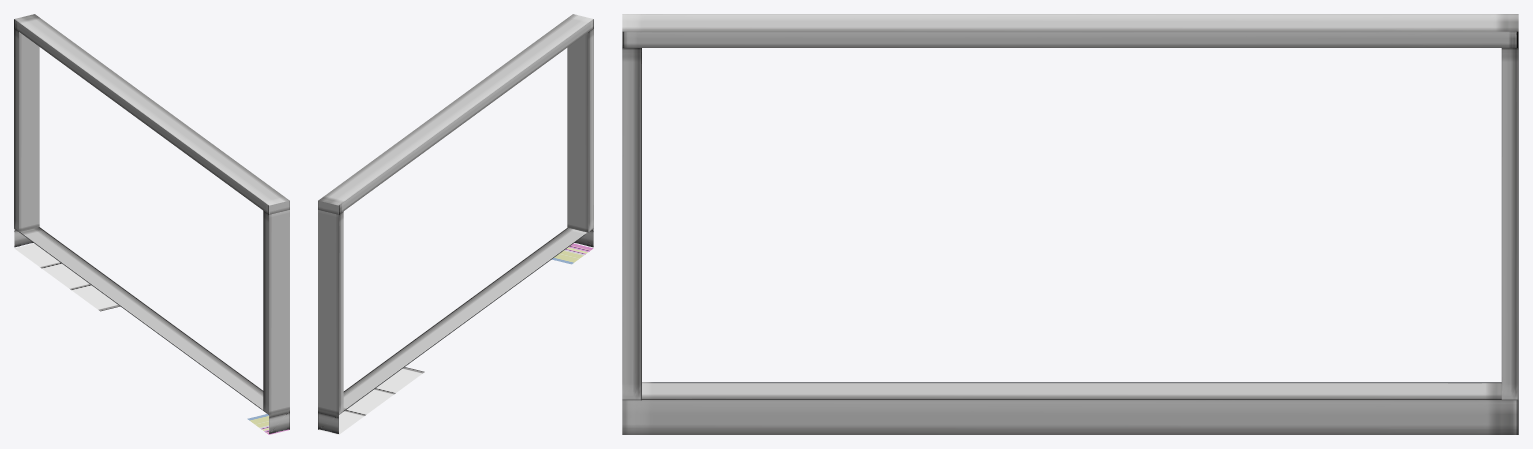
File: entrée.fbx
3 renders of one model, left to right at view 1: azimuth 30°, elevation 25°; view 2: azimuth 150°, elevation 25°; view 3: azimuth 270°, elevation 25°, orthographic. The views are drawn at different scales.
Parts seen in each view (by area): view 1: entrée gare.002; view 2: entrée gare.002; view 3: entrée gare.002.
Part boxes in pixels (x1,y1,x2,y2): entrée gare.002: [14, 14, 289, 434]; entrée gare.002: [318, 14, 593, 434]; entrée gare.002: [622, 14, 1518, 434].
Bounding box in the file's own units: 47.25 × 499 × 1006.
